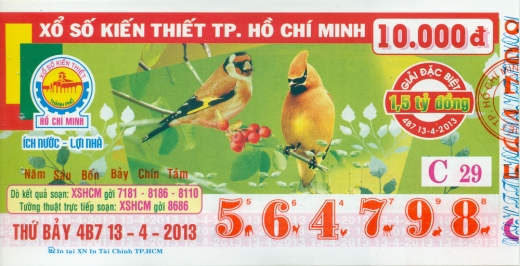serial_zone: (209, 194, 499, 246)
